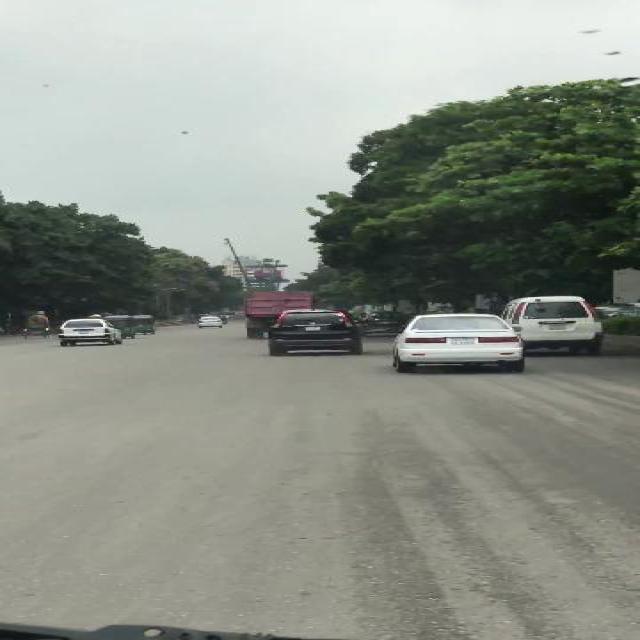car: (394, 313, 516, 372), (57, 318, 121, 347), (197, 314, 223, 328)
minivan: (516, 297, 604, 355)
rickshaw: (20, 314, 50, 338)
suv: (270, 308, 364, 358), (356, 310, 401, 334)
three wheelers -CNG-: (132, 314, 156, 334)
truck: (240, 290, 315, 316)
